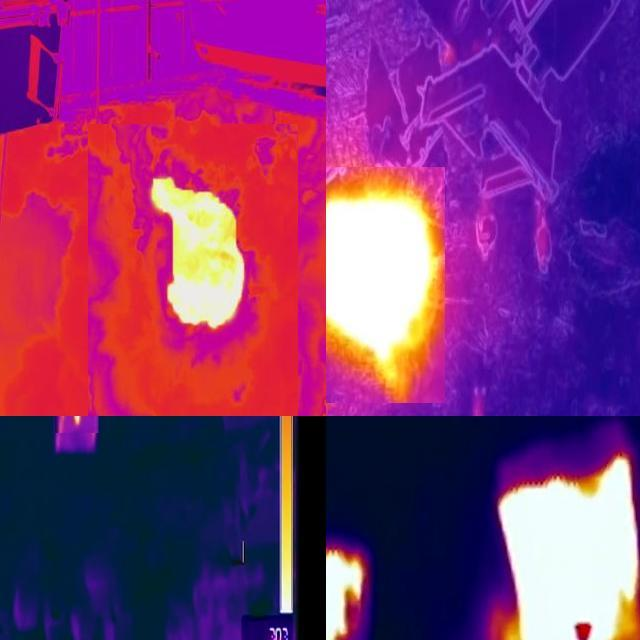fire: (491, 439, 636, 633), (327, 167, 437, 363), (150, 172, 248, 334), (327, 540, 368, 640), (55, 417, 99, 433)
